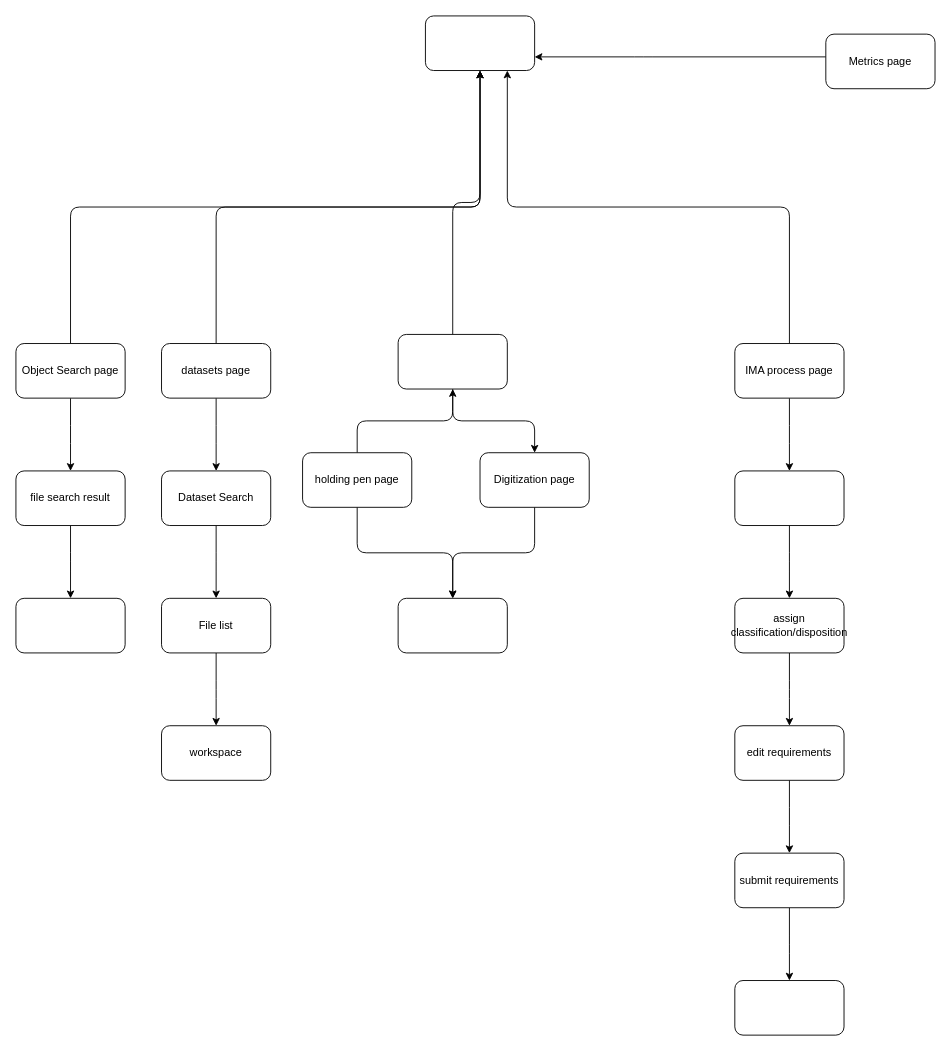
This 951x1051 diagram has some shape labels left out. The centre of each missing label's shape, as x and y in pixels:
Dashboard page: (480,43)
Link to file/record page: (70,625)
Reprocess apge: (452,625)
Review Requirements: (789,1007)
system: (789,498)
Upload page: (452,361)
